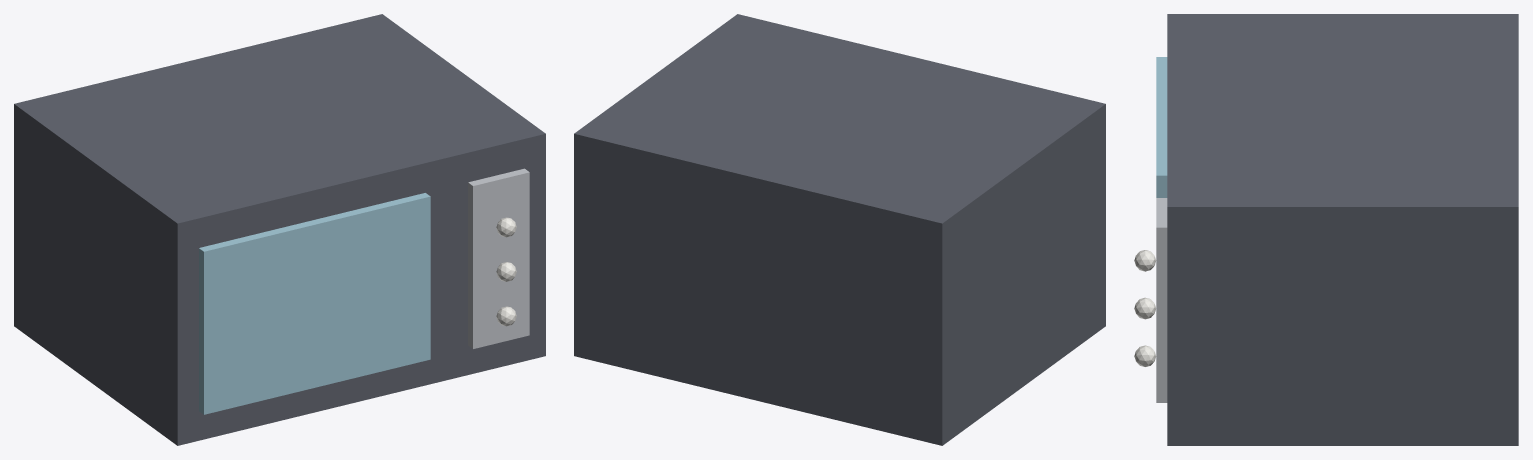
The picture shows the model from 3 angles, left to right: view 1: azimuth 30°, elevation 25°; view 2: azimuth 150°, elevation 25°; view 3: azimuth 270°, elevation 25°; orthographic projection. The views are drawn at different scales.
Visible parts, largest first — view 1: Body, Door, Panel; view 2: Body; view 3: Body, Panel, Door.
Boxes of the visible parts, <box> form: Body: <box>14,14,545,445</box>; Door: <box>199,193,430,414</box>; Panel: <box>468,168,529,348</box>; Body: <box>574,14,1105,445</box>; Body: <box>1167,14,1518,445</box>; Panel: <box>1156,198,1167,402</box>; Door: <box>1156,57,1167,197</box>.
Size of the model in its own units: 0.52 by 0.3 by 0.4375.
